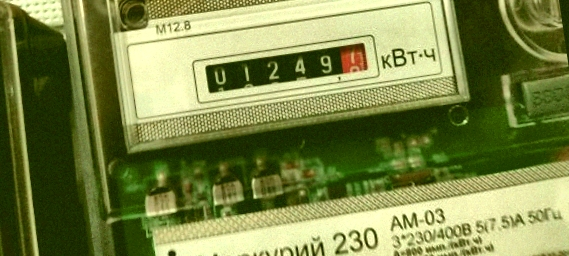0: (211, 64, 228, 86)
1: (238, 61, 253, 83)
2: (263, 57, 282, 82)
4: (292, 54, 307, 75)
7: (345, 43, 360, 65)
9: (318, 52, 333, 75)
screen: (188, 29, 384, 106)
